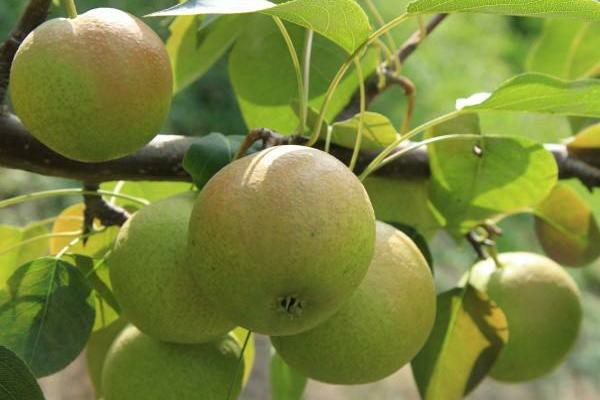pear: (188, 145, 375, 335), (269, 219, 437, 385), (9, 8, 172, 162), (109, 199, 240, 345), (451, 251, 582, 381), (102, 324, 244, 400)
